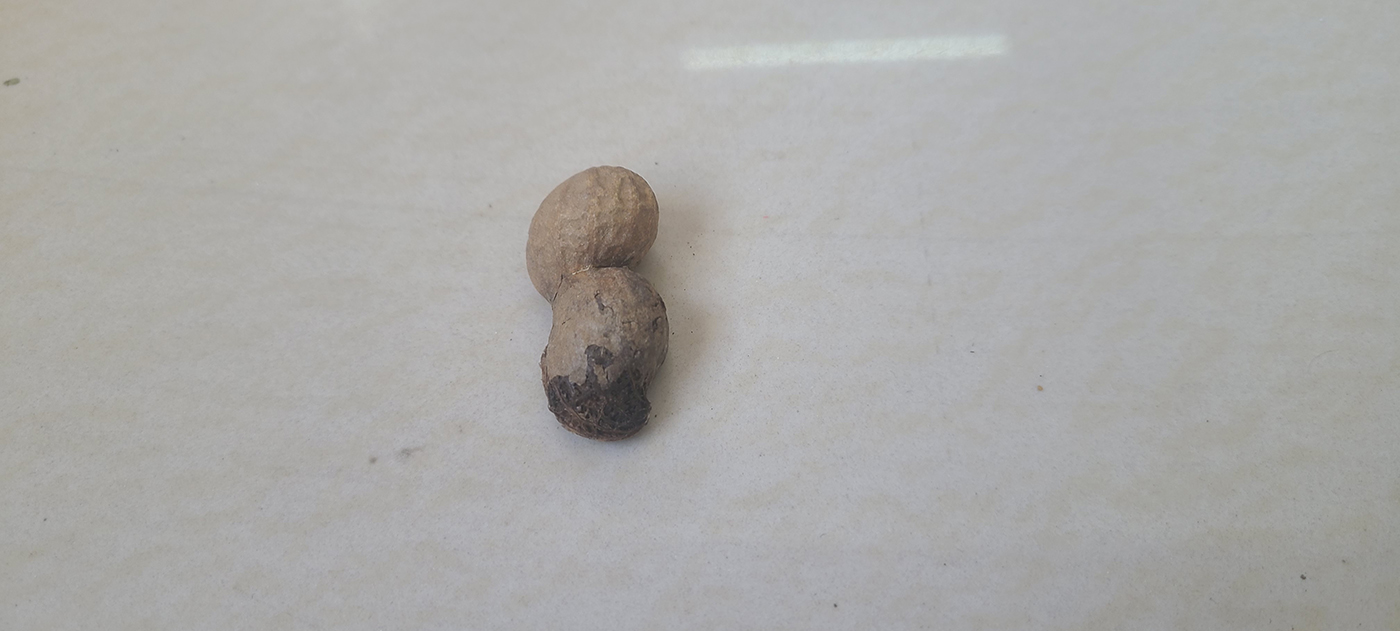l: (524, 165, 672, 444)
